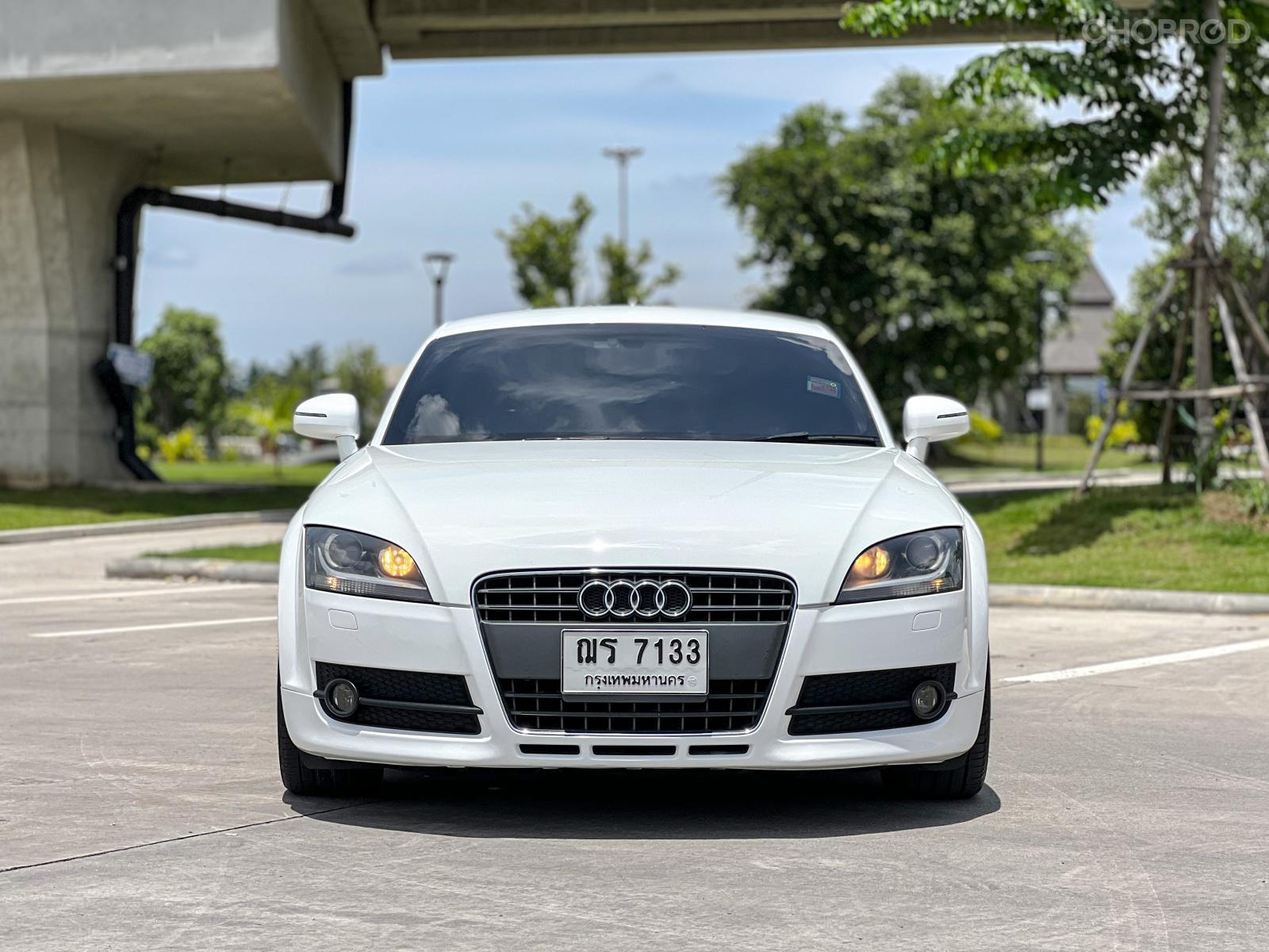license-plate: (557, 623, 717, 698)
